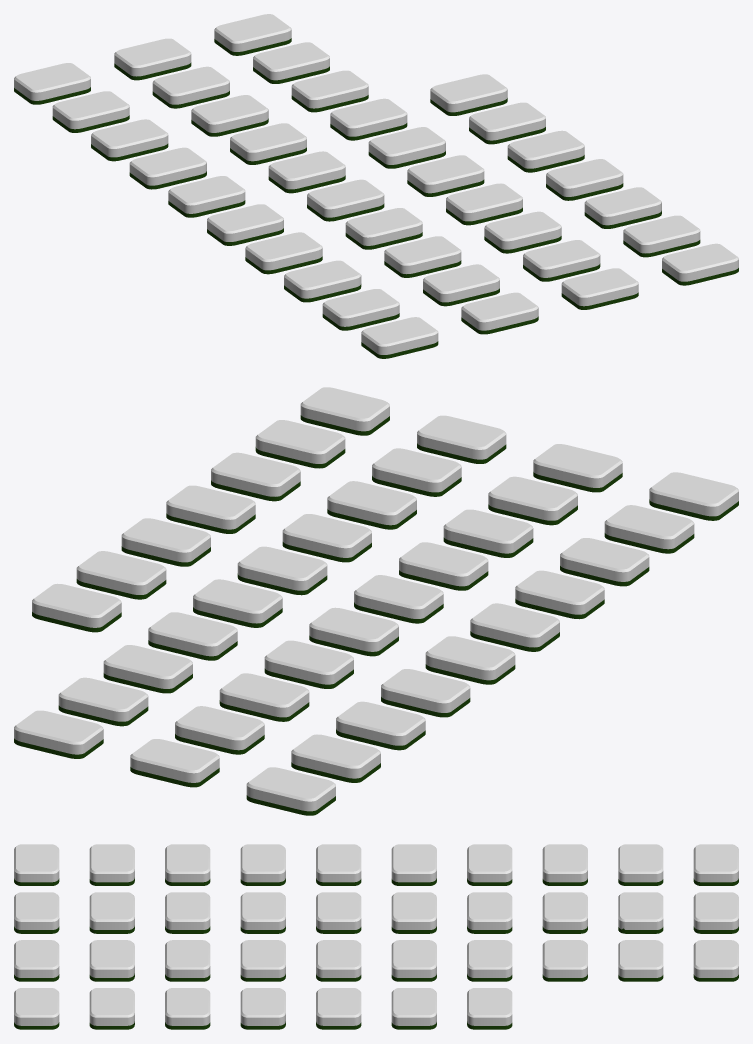
Rendered from mahjong-pieces1.fbx.
3 views of the same model, one above another, from view 1: azimuth 30°, elevation 25°; view 2: azimuth 150°, elevation 25°; view 3: azimuth 270°, elevation 25° (orthographic). The views are drawn at different scales.
Visible parts, largest first — view 1: Circle_1, Circle_5_red, Bamboo_6, Bamboo_7, Charcter_6, Circle__5, Charcter_3, Charcter_5_red, Circle_8, Circle_9, South, Bamboo_3 (+25 smaller); view 2: Bamboo_8, South, Circle_3, Bamboo_5, Charcter_2, Charcter_5_red, Circle_7, White, Bamboo_3, Bamboo_6, Red, Bamboo_1 (+25 smaller); view 3: Bamboo_2, Bamboo_4, Bamboo_6, Bamboo_8, Circle_2, Circle_8, Bamboo_3, Bamboo_5, Bamboo_5_red, Bamboo_7, Charcter_2, Charcter_4 (+25 smaller).
Part boxes in pixels (<box>): Circle_1: <box>461,292,538,334</box>; Circle_5_red: <box>268,151,345,193</box>; Bamboo_6: <box>330,98,407,140</box>; Bamboo_7: <box>291,70,368,112</box>; Charcter_6: <box>129,147,206,189</box>; Circle__5: <box>307,179,384,221</box>; Charcter_3: <box>284,260,361,302</box>; Charcter_5_red: <box>168,176,245,217</box>; Circle_8: <box>152,66,229,108</box>; Circle_9: <box>114,38,191,80</box>; South: <box>623,215,700,257</box>; Bamboo_3: <box>484,211,561,253</box>; Bamboo_8: <box>58,677,148,726</box>; South: <box>255,420,345,468</box>; Circle_3: <box>443,509,533,557</box>; Bamboo_5: <box>237,546,327,595</box>; Charcter_2: <box>604,505,694,553</box>; Charcter_5_red: <box>425,636,515,684</box>; Circle_7: <box>219,673,309,721</box>; White: <box>76,551,166,599</box>; Bamboo_3: <box>327,481,416,529</box>; Bamboo_6: <box>148,612,237,660</box>; Red: <box>121,518,210,566</box>; Bamboo_1: <box>417,415,506,463</box>; Bamboo_2: <box>89,940,134,981</box>; Bamboo_4: <box>240,940,285,981</box>; Bamboo_6: <box>467,940,512,981</box>; Bamboo_8: <box>618,940,663,981</box>; Circle_2: <box>89,892,134,933</box>; Circle_8: <box>618,892,663,933</box>; Bamboo_3: <box>165,940,210,981</box>; Bamboo_5: <box>316,940,361,981</box>; Bamboo_5_red: <box>391,940,436,981</box>; Bamboo_7: <box>542,940,587,981</box>; Charcter_2: <box>89,844,134,885</box>; Charcter_4: <box>240,844,285,885</box>.
Size of the model in its own units: 1080 by 40 by 1920.
